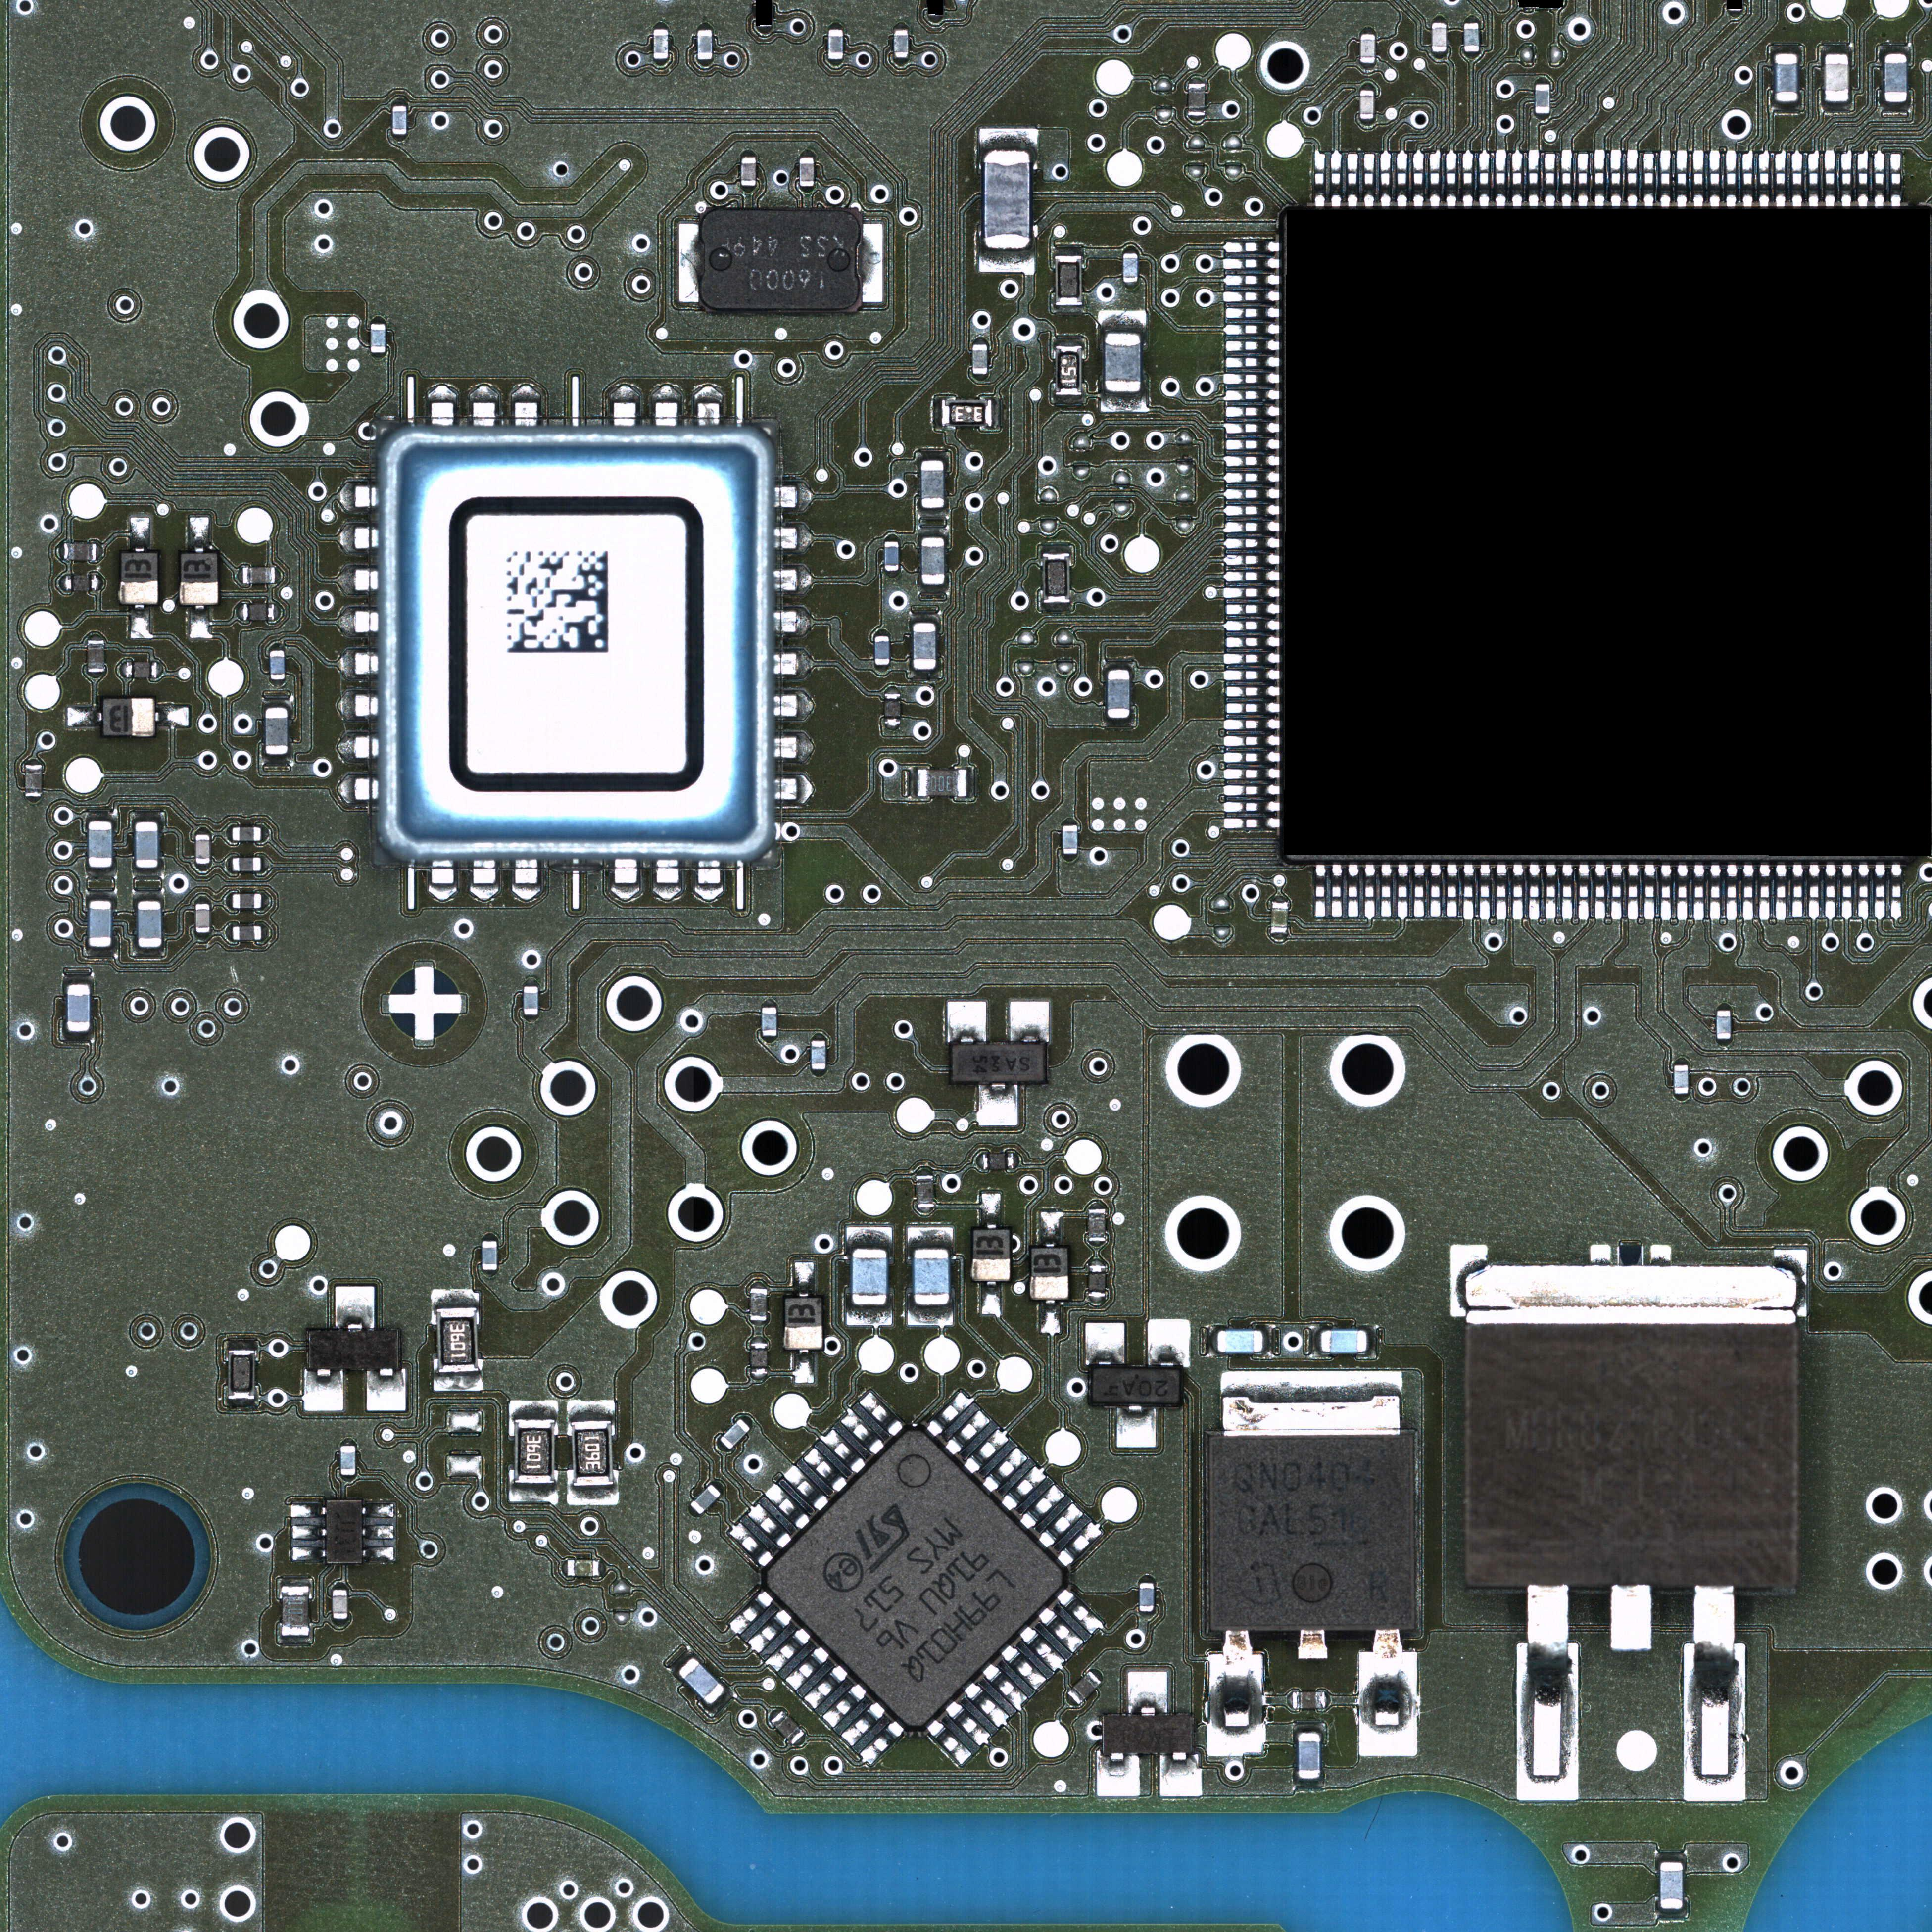Package: (759, 1422, 1070, 1732), (1465, 1311, 1796, 1587), (1210, 1437, 1415, 1629), (699, 209, 862, 313), (984, 149, 1030, 249), (950, 1044, 1046, 1083), (308, 1330, 400, 1368), (1102, 1716, 1192, 1753), (1092, 1366, 1180, 1403), (437, 1307, 481, 1373), (570, 1422, 614, 1486), (515, 1419, 556, 1484), (676, 1656, 727, 1706), (1104, 333, 1141, 393), (327, 1500, 363, 1562), (913, 1247, 950, 1306), (851, 1249, 888, 1306), (784, 1297, 823, 1350), (120, 552, 159, 603), (180, 554, 219, 605), (1030, 1247, 1069, 1299), (103, 699, 156, 736), (973, 1230, 1010, 1281), (1054, 257, 1083, 306), (1042, 554, 1070, 603), (281, 1587, 310, 1637), (916, 770, 968, 796), (1054, 347, 1081, 396), (943, 400, 993, 426), (228, 1350, 255, 1399), (1775, 53, 1799, 104), (1067, 1670, 1102, 1706), (770, 1711, 805, 1746), (1824, 53, 1849, 103), (1320, 1329, 1368, 1353), (1884, 53, 1907, 103), (67, 984, 90, 1033), (1299, 1732, 1322, 1780), (922, 460, 945, 508), (922, 538, 945, 586), (913, 623, 936, 671), (265, 708, 288, 755), (88, 821, 111, 869), (138, 901, 161, 948), (1660, 1861, 1683, 1909), (1217, 1330, 1263, 1353), (134, 823, 157, 869), (88, 902, 111, 948), (1108, 669, 1129, 718), (690, 1483, 722, 1514), (718, 1419, 750, 1449), (64, 543, 97, 561), (1088, 1208, 1106, 1242), (242, 566, 274, 584), (87, 640, 104, 672), (568, 1559, 600, 1576), (750, 1288, 768, 1320), (1189, 83, 1205, 117), (1292, 1691, 1325, 1707), (244, 603, 274, 621), (25, 766, 42, 796), (1088, 1267, 1106, 1297), (1272, 902, 1288, 934), (65, 575, 97, 591), (750, 1345, 768, 1373), (653, 30, 669, 60), (697, 30, 713, 60), (828, 30, 844, 60), (893, 28, 909, 58), (391, 104, 407, 134), (1463, 23, 1479, 53), (1062, 824, 1077, 855), (885, 694, 901, 724), (232, 893, 262, 909), (481, 1240, 497, 1270), (340, 1445, 356, 1476), (810, 1040, 826, 1070), (1431, 23, 1447, 51), (1534, 85, 1550, 113), (874, 637, 890, 665), (269, 651, 285, 679), (127, 662, 156, 678), (195, 904, 211, 932), (370, 324, 386, 352), (333, 1591, 349, 1619), (761, 1008, 777, 1037), (1361, 90, 1375, 120), (1361, 34, 1375, 64), (1123, 253, 1138, 283), (973, 343, 987, 373), (885, 541, 899, 571), (232, 828, 262, 842), (232, 927, 262, 941), (741, 157, 755, 186), (800, 157, 814, 186), (196, 835, 211, 863), (524, 987, 538, 1016), (1139, 1583, 1154, 1612), (1716, 1010, 1730, 1039), (1674, 1065, 1688, 1093), (232, 858, 262, 870)
Solder: (1683, 1585, 1746, 1803), (1516, 1587, 1578, 1801), (1221, 1371, 1405, 1431), (1357, 1629, 1419, 1757), (1208, 1631, 1267, 1755), (924, 1387, 977, 1438), (1054, 1518, 1108, 1569), (941, 1407, 993, 1458), (962, 1424, 1014, 1476), (1000, 1463, 1051, 1514), (1016, 1483, 1067, 1534), (743, 1606, 794, 1658), (1054, 1587, 1106, 1638), (1017, 1624, 1069, 1675), (1610, 1587, 1651, 1651), (1451, 1244, 1488, 1313), (780, 1645, 832, 1695), (856, 1718, 906, 1769), (725, 1518, 775, 1569), (945, 1698, 994, 1750), (962, 1679, 1012, 1730), (982, 1661, 1031, 1713), (980, 1445, 1030, 1495), (1037, 1500, 1086, 1550), (801, 1663, 851, 1713), (763, 1481, 812, 1530), (782, 1463, 832, 1513), (856, 1389, 906, 1438), (837, 1408, 886, 1458), (800, 1445, 849, 1495), (764, 1626, 812, 1675), (821, 1681, 870, 1729), (745, 1500, 793, 1550), (819, 1426, 867, 1476), (1037, 1605, 1085, 1654), (727, 1589, 775, 1637), (840, 1700, 888, 1748), (925, 1718, 973, 1766), (1000, 1644, 1047, 1691), (1146, 1320, 1191, 1366), (1159, 1753, 1203, 1798), (1775, 1251, 1806, 1311), (1097, 1753, 1139, 1798), (334, 1286, 375, 1329), (1085, 1323, 1125, 1366), (1116, 1405, 1157, 1447), (366, 1369, 407, 1410), (947, 1001, 987, 1042), (1129, 1672, 1168, 1714), (978, 1083, 1017, 1125), (304, 1369, 343, 1410), (1010, 1001, 1049, 1042), (679, 223, 699, 303), (863, 223, 883, 303), (978, 249, 1035, 274), (980, 127, 1039, 149), (846, 1226, 892, 1249), (1099, 311, 1148, 333), (846, 1306, 892, 1327), (1100, 393, 1150, 412), (566, 1488, 619, 1506), (510, 1399, 557, 1419), (568, 1401, 616, 1421), (906, 1306, 954, 1325), (908, 1228, 954, 1247), (432, 1290, 481, 1307), (510, 1484, 559, 1502), (1888, 152, 1904, 207), (1299, 1629, 1329, 1658), (1872, 149, 1886, 207), (1856, 149, 1870, 207), (1838, 149, 1852, 207), (1822, 149, 1836, 207), (1806, 149, 1821, 207), (1789, 149, 1803, 207), (1773, 149, 1787, 207), (1757, 149, 1771, 207), (1741, 149, 1755, 207), (1723, 150, 1737, 209), (1707, 149, 1721, 207), (1691, 149, 1706, 207), (1674, 149, 1688, 207), (1658, 150, 1672, 209), (1642, 149, 1656, 207), (1626, 149, 1640, 207), (1592, 149, 1606, 207), (1560, 149, 1575, 207), (1576, 149, 1591, 207), (1543, 149, 1557, 207), (1527, 149, 1541, 207), (1509, 149, 1523, 207), (1461, 149, 1476, 207), (1477, 149, 1491, 207), (1493, 149, 1507, 207), (1444, 149, 1458, 207), (1428, 149, 1442, 207), (1412, 149, 1426, 207), (1394, 149, 1408, 207), (1378, 149, 1392, 207), (1362, 149, 1376, 207), (1345, 149, 1359, 207), (1329, 149, 1343, 207), (1313, 149, 1327, 207), (1223, 372, 1281, 386), (1223, 356, 1281, 370), (1223, 816, 1281, 830), (1223, 800, 1281, 814), (1461, 863, 1476, 922), (1511, 863, 1525, 922), (1495, 863, 1509, 922), (1560, 863, 1575, 922), (1610, 863, 1624, 922), (1642, 863, 1656, 922), (1691, 863, 1706, 922), (1856, 863, 1870, 922), (1890, 863, 1904, 922), (1039, 1212, 1062, 1247), (1223, 257, 1279, 271), (1223, 272, 1279, 287), (1223, 340, 1279, 354), (1223, 306, 1279, 320), (1223, 387, 1279, 402), (1223, 437, 1279, 451), (1223, 421, 1279, 435), (1223, 471, 1279, 485), (1223, 586, 1279, 600), (1223, 602, 1279, 616), (1223, 635, 1279, 649), (1223, 651, 1279, 665), (1223, 685, 1279, 699), (1223, 734, 1279, 748), (1223, 718, 1279, 732), (1223, 750, 1279, 764), (1527, 863, 1541, 920), (1592, 863, 1606, 920), (1675, 865, 1690, 922), (1660, 865, 1674, 922), (1709, 865, 1723, 922), (1725, 865, 1739, 922), (1741, 865, 1755, 922), (433, 1375, 483, 1391), (156, 704, 189, 727), (67, 706, 103, 727), (708, 1688, 734, 1716), (980, 1192, 1001, 1228), (1313, 865, 1327, 918), (1346, 865, 1361, 918), (1396, 865, 1410, 918), (1430, 865, 1444, 918), (1445, 865, 1460, 918), (1610, 149, 1622, 207), (1221, 241, 1279, 253), (1223, 570, 1281, 582), (1628, 863, 1640, 922), (1790, 863, 1803, 922), (1775, 863, 1787, 922), (1808, 863, 1821, 922), (1842, 863, 1854, 922), (1824, 863, 1836, 922), (1874, 863, 1886, 922), (129, 605, 150, 639), (794, 1350, 816, 1384), (1223, 290, 1279, 303), (1223, 324, 1279, 336), (1223, 405, 1279, 418), (1223, 455, 1279, 467), (1223, 488, 1279, 501), (1223, 504, 1279, 517), (1223, 520, 1279, 533), (1223, 538, 1279, 550), (1223, 554, 1279, 566), (1223, 619, 1279, 632), (1223, 669, 1279, 681), (1223, 702, 1279, 715), (1223, 768, 1279, 780), (1223, 784, 1279, 796), (1479, 863, 1491, 920), (1545, 863, 1557, 920), (1576, 863, 1589, 920), (1759, 865, 1771, 922), (129, 517, 149, 552), (189, 517, 209, 552), (794, 1261, 814, 1297), (1040, 1299, 1060, 1334), (1364, 865, 1376, 918), (1414, 865, 1426, 918), (1380, 865, 1392, 918), (982, 1281, 1001, 1315), (1330, 865, 1343, 916), (191, 605, 209, 639), (1304, 1325, 1320, 1361), (1263, 1325, 1277, 1361), (290, 1504, 326, 1518), (671, 1651, 694, 1672), (292, 1525, 326, 1539), (292, 1546, 326, 1560), (129, 810, 166, 823), (223, 1338, 260, 1350), (363, 1504, 395, 1518), (363, 1525, 395, 1539), (363, 1546, 395, 1560), (1203, 1323, 1215, 1359), (1037, 543, 1076, 554), (1651, 1246, 1670, 1267), (1049, 336, 1086, 347), (993, 395, 1003, 432), (932, 395, 943, 432), (129, 947, 166, 957), (1591, 1246, 1610, 1265), (1368, 1325, 1378, 1361), (915, 449, 950, 460), (258, 755, 294, 766), (83, 810, 119, 821), (83, 948, 119, 959), (1104, 718, 1138, 729), (1656, 1909, 1690, 1920), (1037, 603, 1076, 612), (276, 1576, 315, 1585), (276, 1637, 315, 1645), (1062, 1693, 1081, 1711), (711, 1438, 731, 1456), (683, 1504, 702, 1522), (1293, 1721, 1325, 1732), (1293, 1780, 1325, 1790), (85, 890, 117, 901), (133, 890, 165, 901), (1100, 660, 1138, 669), (223, 1399, 260, 1408), (1049, 246, 1085, 255), (1051, 396, 1086, 405), (916, 527, 952, 536), (908, 671, 943, 679), (60, 1033, 96, 1042), (1090, 1665, 1108, 1683), (85, 869, 119, 878), (131, 869, 165, 878), (968, 766, 977, 800), (1821, 44, 1852, 53), (1879, 44, 1911, 53), (1654, 1852, 1686, 1861), (1771, 44, 1801, 53), (1822, 103, 1852, 111), (1881, 103, 1911, 111), (909, 614, 939, 623), (64, 975, 94, 984), (915, 510, 952, 517), (881, 725, 902, 738), (711, 1479, 727, 1495), (766, 1706, 782, 1721), (793, 1734, 809, 1750), (1051, 306, 1086, 313), (918, 586, 950, 593), (741, 1414, 755, 1430), (55, 571, 64, 596), (1771, 104, 1801, 111), (97, 571, 106, 594), (264, 701, 292, 708), (911, 764, 916, 801), (1359, 80, 1376, 90), (1269, 934, 1290, 943), (883, 683, 901, 694), (85, 672, 106, 681), (157, 660, 166, 681), (1359, 25, 1378, 34), (262, 892, 271, 911), (1672, 1093, 1691, 1102), (97, 540, 104, 563), (1463, 14, 1481, 23), (1270, 893, 1288, 902), (119, 662, 127, 679), (1674, 1056, 1691, 1065), (750, 1336, 768, 1345), (57, 541, 64, 563), (893, 58, 909, 67), (800, 149, 816, 157), (883, 533, 899, 541), (874, 665, 890, 674), (195, 826, 211, 835), (370, 315, 386, 324), (761, 998, 777, 1007), (235, 564, 242, 584), (87, 633, 106, 640), (262, 824, 269, 844), (225, 924, 232, 943), (479, 1270, 499, 1277), (331, 1619, 350, 1626), (697, 60, 715, 67), (1359, 120, 1376, 127), (1431, 14, 1449, 21), (1534, 76, 1552, 83), (741, 149, 755, 157), (798, 186, 816, 193), (276, 566, 283, 584), (235, 603, 242, 621), (195, 934, 212, 941), (193, 895, 211, 902), (195, 863, 212, 870), (262, 856, 269, 874), (262, 924, 269, 941), (370, 354, 387, 361), (522, 978, 540, 985), (481, 1233, 499, 1240), (331, 1582, 349, 1589), (1138, 1612, 1155, 1619), (1138, 1575, 1155, 1582), (1716, 1040, 1734, 1047), (750, 1373, 768, 1380), (761, 1037, 778, 1044), (810, 1070, 828, 1077), (276, 600, 281, 623), (653, 21, 669, 28), (653, 60, 669, 67), (828, 21, 844, 28), (828, 60, 844, 67), (893, 21, 909, 28), (391, 136, 407, 143), (740, 186, 755, 193), (1122, 246, 1138, 253), (1123, 283, 1139, 290), (1062, 855, 1077, 862), (1062, 817, 1077, 824), (1327, 1690, 1332, 1711), (971, 336, 987, 343), (885, 571, 901, 579), (874, 628, 890, 635), (269, 642, 285, 649), (25, 796, 41, 803), (524, 1016, 540, 1023), (340, 1438, 356, 1445), (340, 1476, 356, 1483), (600, 1560, 607, 1576), (750, 1281, 766, 1288), (750, 1320, 766, 1327), (1090, 1297, 1106, 1304), (810, 1033, 826, 1040), (226, 824, 232, 844), (697, 23, 711, 30), (393, 97, 407, 104), (1716, 1003, 1730, 1010), (1359, 64, 1376, 69), (1430, 53, 1447, 58), (1461, 53, 1479, 58), (1286, 1691, 1292, 1709), (269, 681, 287, 686), (226, 856, 232, 874), (226, 893, 232, 911), (25, 759, 42, 764), (561, 1559, 566, 1576), (1088, 1203, 1106, 1208), (1088, 1242, 1106, 1247), (1088, 1260, 1106, 1265), (1727, 11, 1744, 16), (1189, 78, 1205, 83), (1189, 117, 1205, 122), (1534, 115, 1550, 120), (973, 375, 989, 380), (757, 27, 773, 32), (929, 16, 943, 21)
